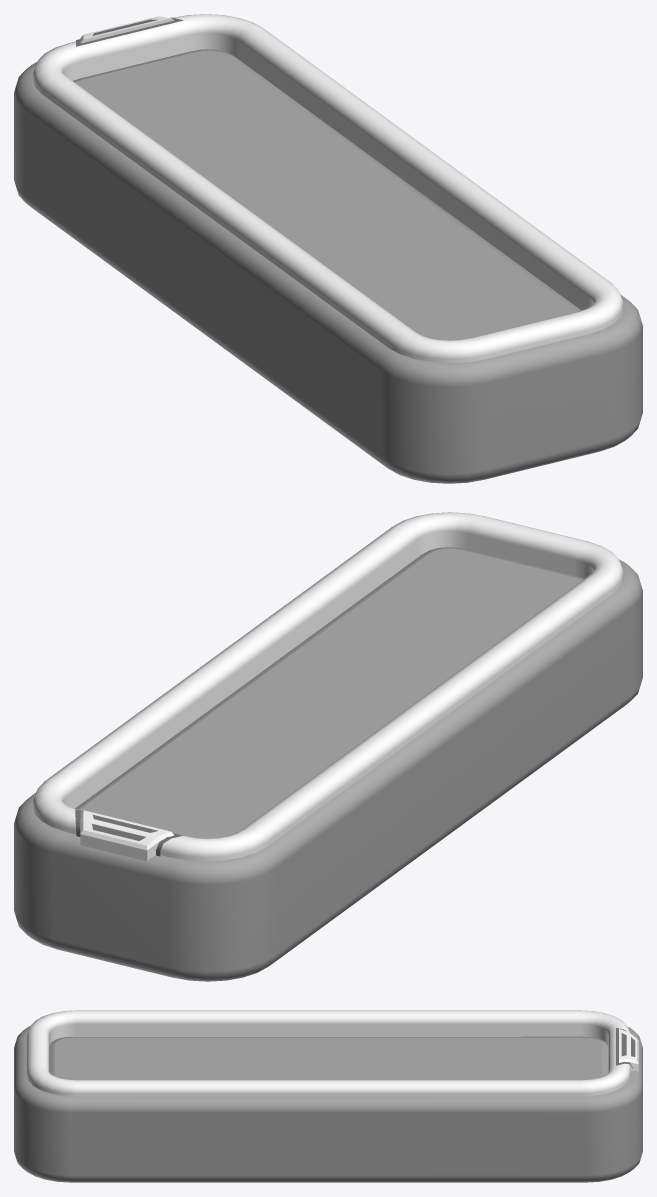
Rendered from Model_Block_3_New.fbx.
3 renders of one model, top to bottom at view 1: azimuth 30°, elevation 25°; view 2: azimuth 150°, elevation 25°; view 3: azimuth 270°, elevation 25°, orthographic. The views are drawn at different scales.
Parts seen in each view (by area): view 1: Block_3_BG, Block_3_Water, Block_3_Stroke; view 2: Block_3_BG, Block_3_Water, Block_3_Stroke; view 3: Block_3_BG, Block_3_Stroke, Block_3_Water.
Boxes of the visible parts, x1,y1,x2,y2 form: Block_3_BG: (14, 62, 642, 483); Block_3_Water: (73, 49, 580, 340); Block_3_Stroke: (32, 14, 623, 363); Block_3_BG: (14, 559, 642, 981); Block_3_Water: (75, 547, 583, 838); Block_3_Stroke: (32, 512, 623, 861); Block_3_BG: (14, 1026, 642, 1182); Block_3_Stroke: (26, 1010, 638, 1096); Block_3_Water: (49, 1036, 608, 1079).
Size of the model in its own units: 98.56 by 50.91 by 296.
Materials: 2 (1 with a texture image).
